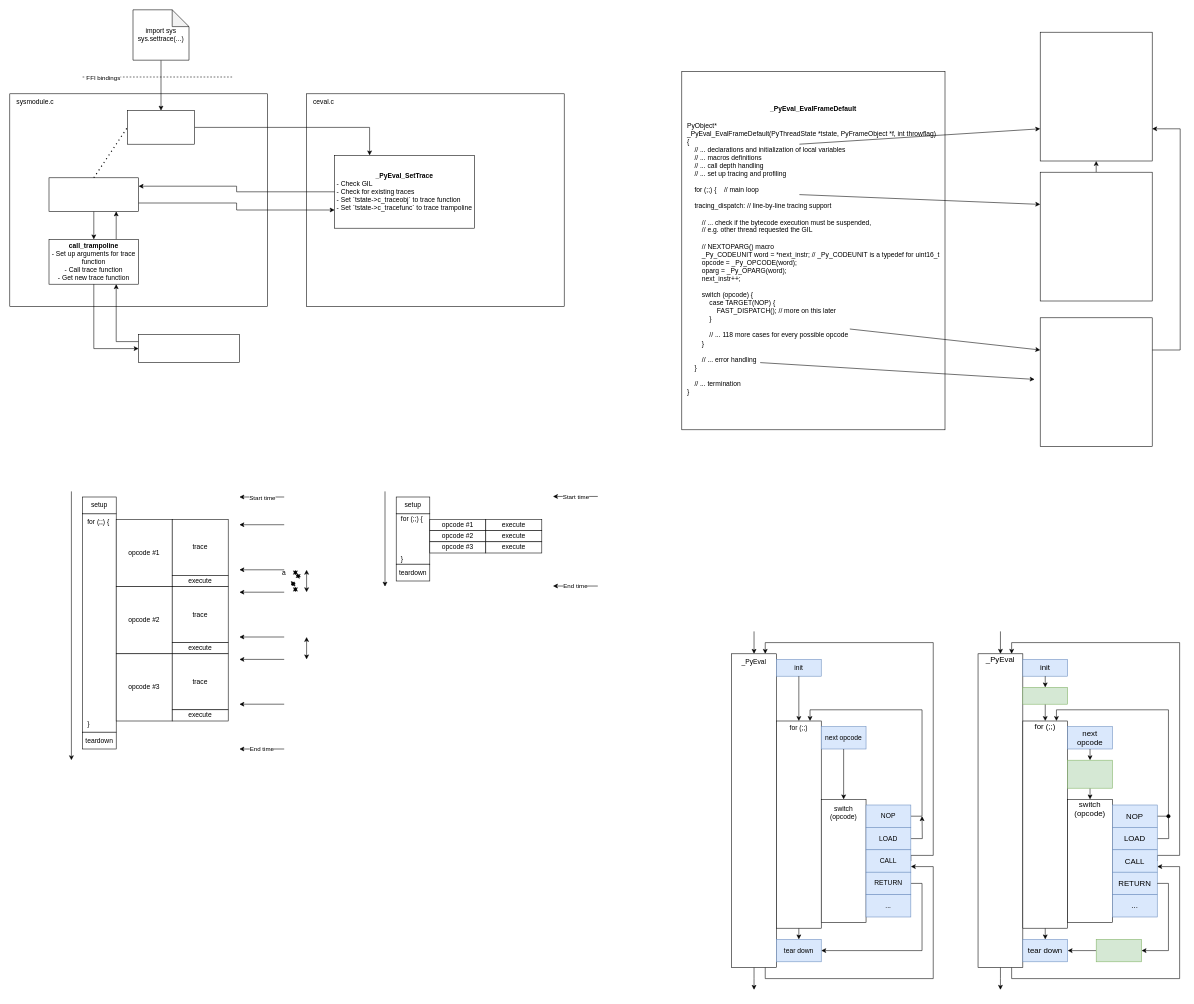
The diagram is 1194 pixels wide and 1004 high, and some of its shapes have lost their labels. The shapes that lost their labels are listed below. From the top down, each one's centre as x and y in pixels, then its label:
point 1096,96: call_trace - admin - call trampoline function
point 161,127: sys_settrace
point 93,194: trace_trampoline - Handle callback - Call trampoline - Update new trace function
point 1096,236: maybe_call_line_trace - Trace lines and opcodes if flags are set
point 188,348: _PyObject_FastCallTstate
point 1096,382: call_exc_trace - handle exception stuff before invoking user defined trace
point 1045,695: trace call
point 1089,774: trace opcode
point 1119,950: trace return
